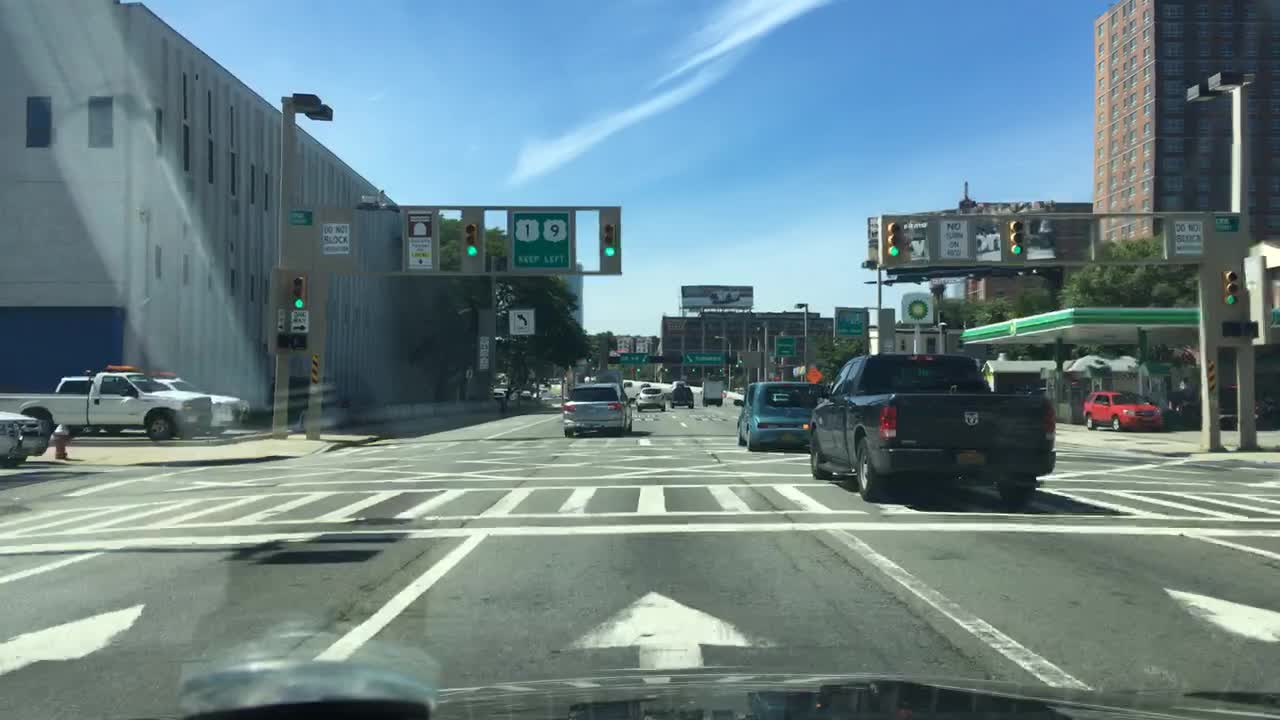car: (733, 379, 825, 451), (562, 382, 634, 435), (1079, 388, 1165, 431), (0, 408, 55, 466), (1212, 402, 1272, 429), (669, 379, 695, 408), (635, 386, 664, 409)
traffic light: (462, 222, 482, 257), (1221, 269, 1240, 303), (1007, 219, 1024, 254), (293, 271, 307, 309), (886, 222, 901, 257), (603, 223, 615, 257)
traffic sign: (512, 208, 573, 266), (935, 216, 969, 256), (1169, 220, 1205, 255), (322, 220, 350, 254), (508, 306, 536, 338), (289, 306, 310, 333), (1214, 211, 1241, 231), (683, 350, 724, 363), (1201, 358, 1217, 390), (307, 352, 322, 383), (287, 208, 313, 225), (773, 334, 794, 354), (801, 367, 827, 383), (617, 351, 649, 363), (277, 306, 287, 333)
truck: (808, 350, 1054, 500), (0, 363, 214, 438), (156, 374, 246, 435), (701, 377, 724, 406)
